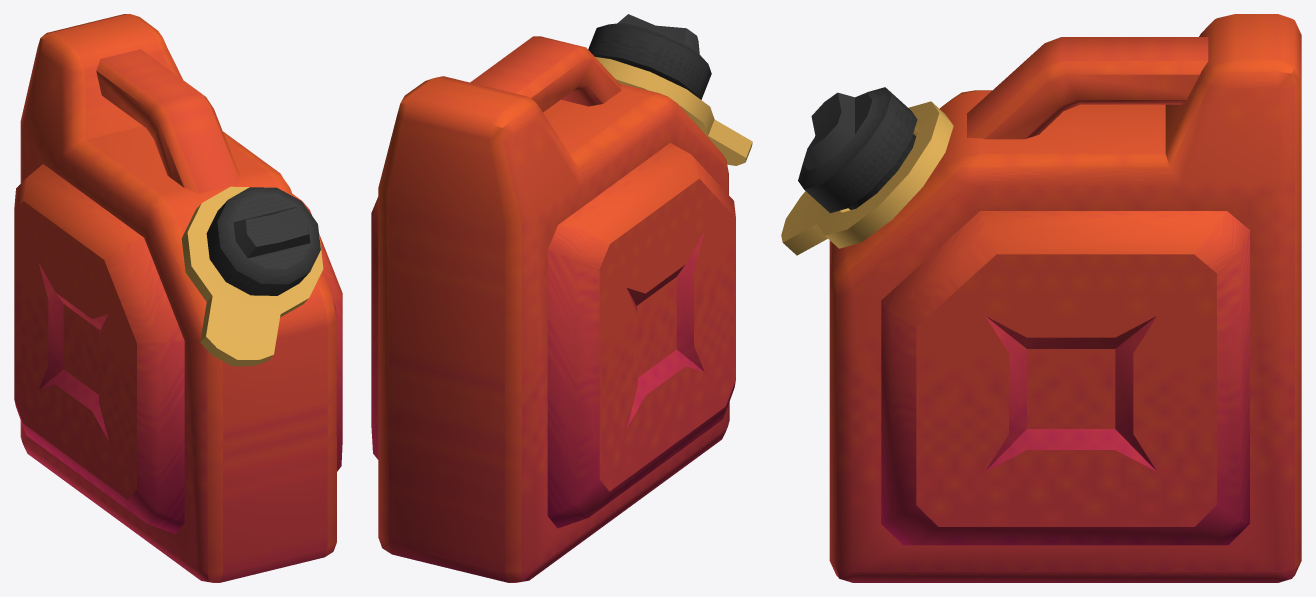
The model's file is Fuel_A_Jerrycan.gltf.
3 renders of one model, left to right at view 1: azimuth 30°, elevation 25°; view 2: azimuth 150°, elevation 25°; view 3: azimuth 270°, elevation 25°, orthographic. The views are drawn at different scales.
Parts seen in each view (by area): view 1: Fuel_A_Jerrycan; view 2: Fuel_A_Jerrycan; view 3: Fuel_A_Jerrycan.
Part boxes in pixels (box(x1,y1,x2,y2)): Fuel_A_Jerrycan: box(14, 14, 342, 582); Fuel_A_Jerrycan: box(371, 14, 752, 582); Fuel_A_Jerrycan: box(781, 14, 1301, 582).
Size of the model in its own units: 0.4 by 0.78 by 0.7165.
1 material, 1 textured.
